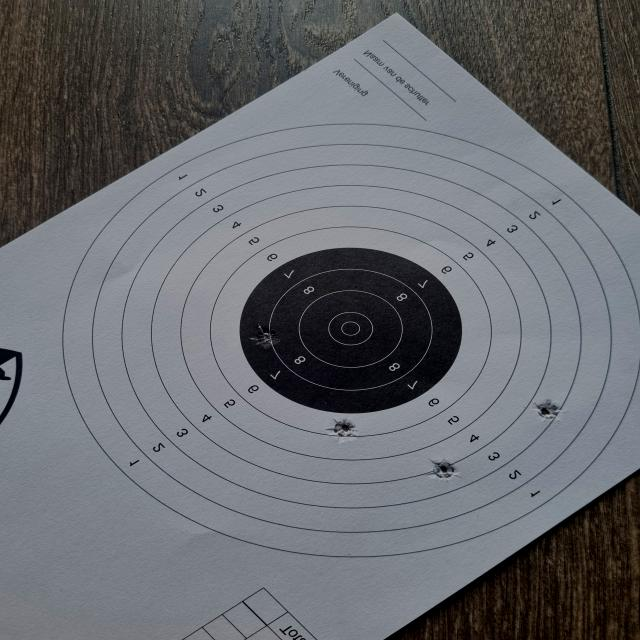3: (533, 401, 560, 419)
4: (427, 459, 462, 478)
6: (326, 417, 357, 438)
8: (250, 324, 280, 348)
Target: (63, 123, 640, 558)
black_contour: (238, 248, 464, 412)
